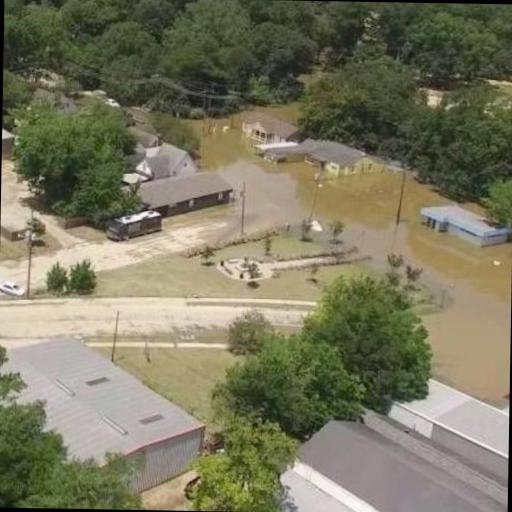flood: (423, 283, 511, 407)
house: (26, 335, 200, 482), (296, 418, 509, 512), (420, 202, 510, 251), (131, 170, 231, 212), (322, 142, 371, 180), (244, 115, 279, 142)
